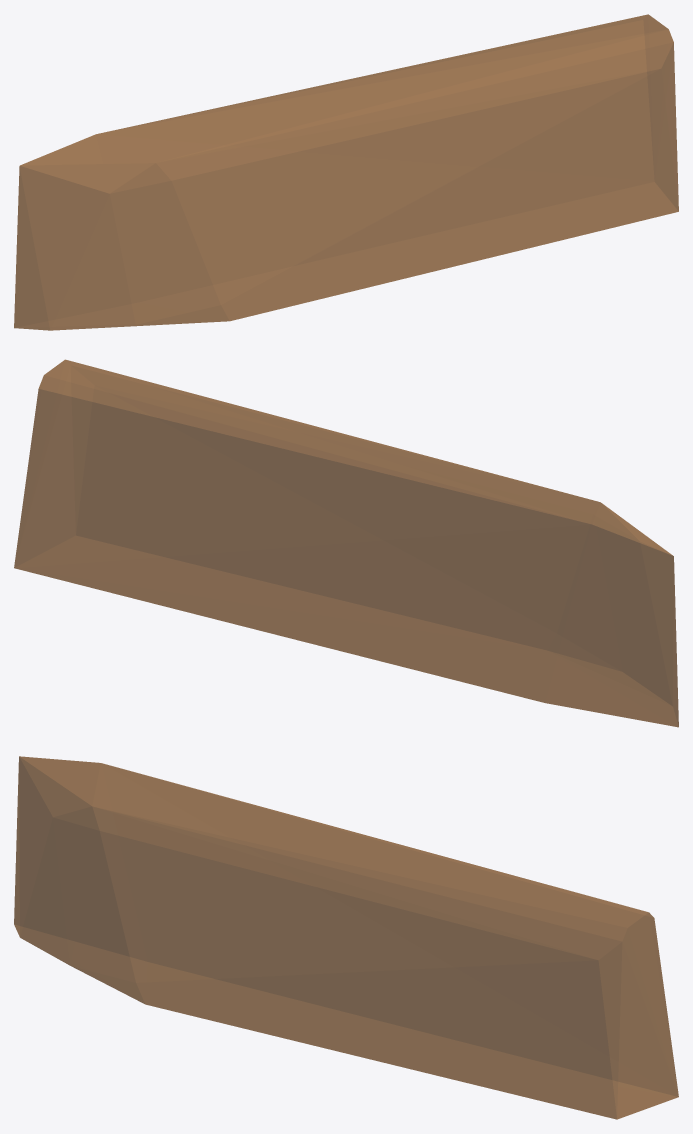
3 renders of one model, top to bottom at view 1: azimuth 30°, elevation 25°; view 2: azimuth 150°, elevation 25°; view 3: azimuth 330°, elevation 25°, orthographic. The views are drawn at different scales.
Parts seen in each view (by area): view 1: Shape_IndexedFaceSet.030_Shape_IndexedFaceSet.18008; view 2: Shape_IndexedFaceSet.030_Shape_IndexedFaceSet.18008; view 3: Shape_IndexedFaceSet.030_Shape_IndexedFaceSet.18008.
Boxes of the visible parts, bbox=[...] form: Shape_IndexedFaceSet.030_Shape_IndexedFaceSet.18008: bbox=[14, 14, 678, 330]; Shape_IndexedFaceSet.030_Shape_IndexedFaceSet.18008: bbox=[14, 359, 678, 727]; Shape_IndexedFaceSet.030_Shape_IndexedFaceSet.18008: bbox=[14, 756, 678, 1119].
Size of the model in its own units: 0.5482 by 0.148 by 0.0701.
